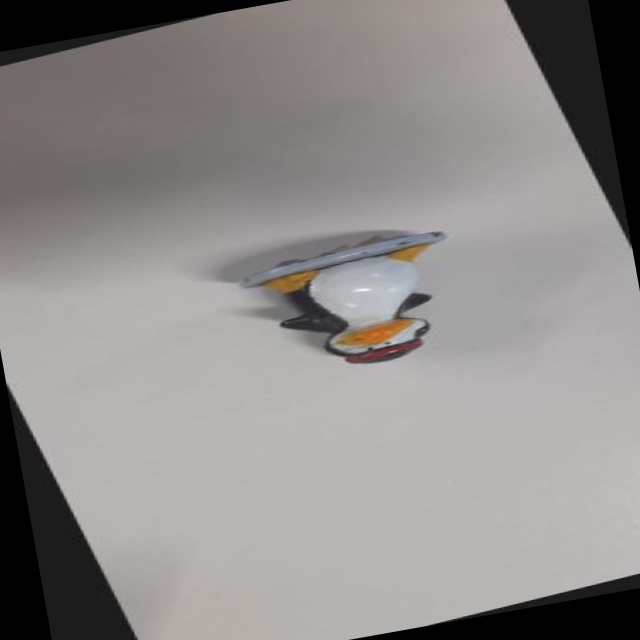Penguin: (199, 192, 540, 436)
